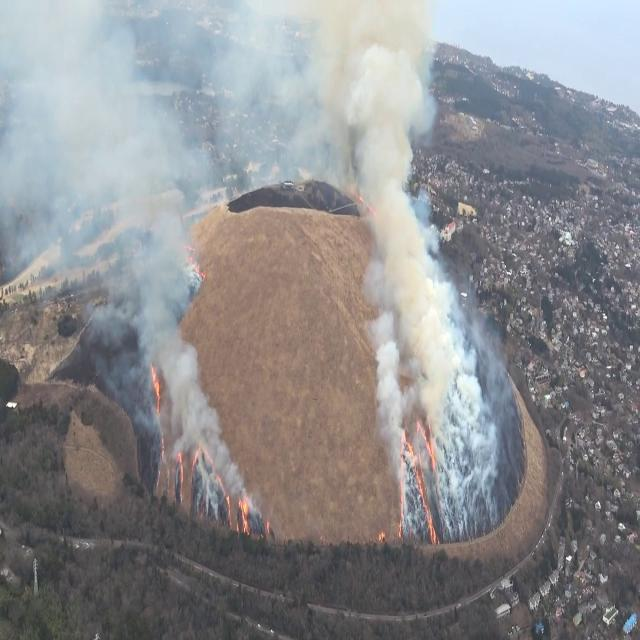Fire: (148, 360, 165, 420), (236, 486, 253, 534)
Smoke: (0, 1, 238, 474), (310, 4, 512, 537)
